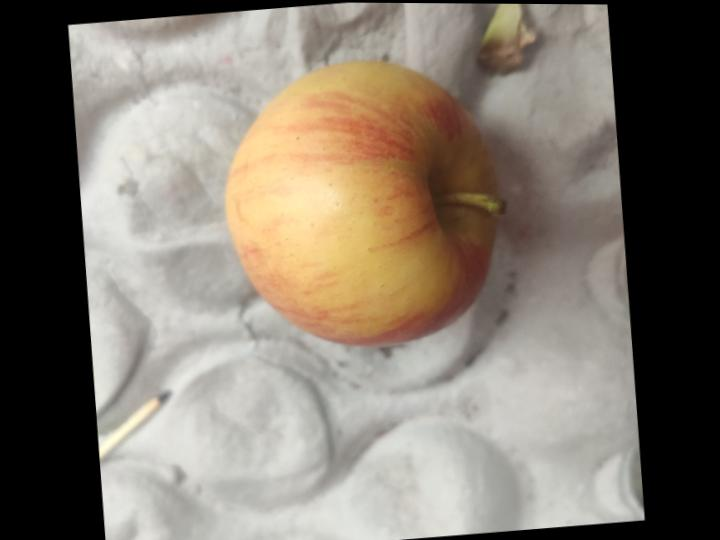apple: (225, 61, 505, 346)
bruise_discoloration: (359, 107, 493, 242)
